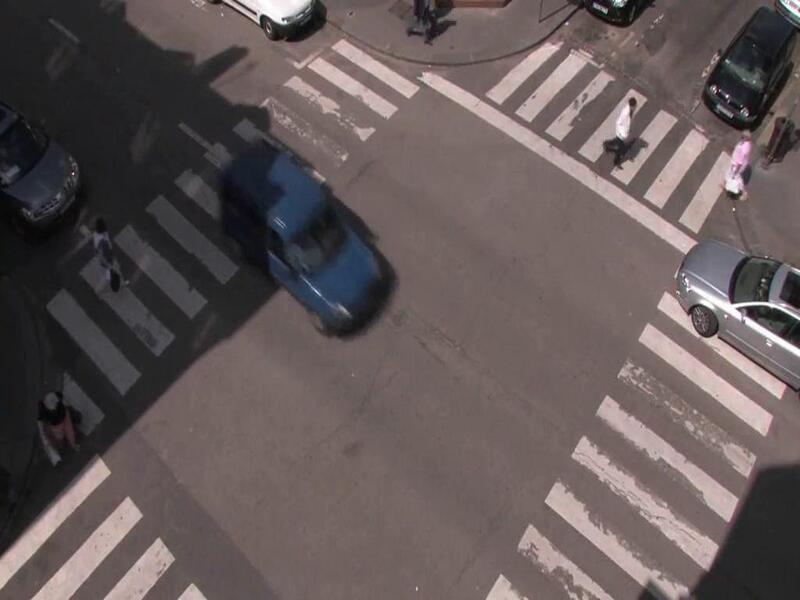car: (219, 138, 392, 340)
